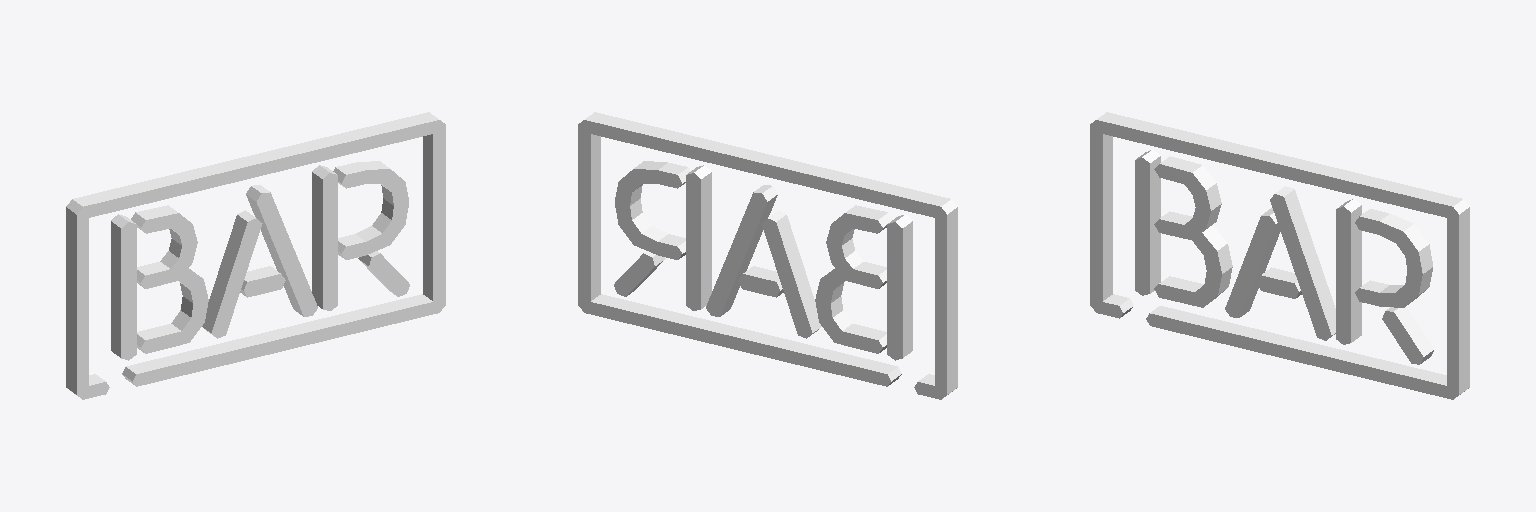
The model's file is SciFi_Sign_Bar.obj.
3 views of the same model, side by side, from view 1: azimuth 30°, elevation 25°; view 2: azimuth 150°, elevation 25°; view 3: azimuth 330°, elevation 25° (orthographic).
Visible parts, largest first — view 1: SM_Sign_Neon_01; view 2: SM_Sign_Neon_01; view 3: SM_Sign_Neon_01.
Part boxes in pixels (x1,y1,x2,y2): SM_Sign_Neon_01: (66,112,445,399); SM_Sign_Neon_01: (578,112,957,399); SM_Sign_Neon_01: (1090,112,1469,399).
Size of the model in its own units: 2 by 1 by 0.1.